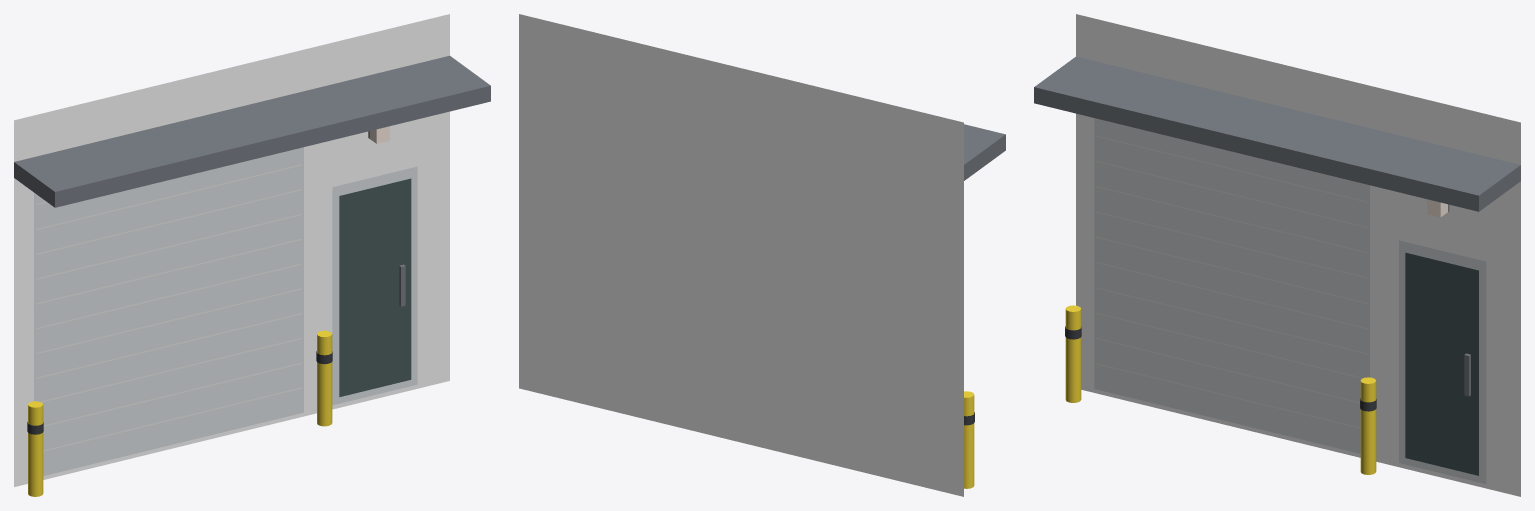
File: entrance_close.fbx
The picture shows the model from 3 angles, left to right: view 1: azimuth 30°, elevation 25°; view 2: azimuth 150°, elevation 25°; view 3: azimuth 330°, elevation 25°; orthographic projection. The views are drawn at different scales.
Visible parts, largest first — view 1: a2004/700/entrance_close; view 2: a2004/700/entrance_close; view 3: a2004/700/entrance_close.
Part boxes in pixels (<box>): a2004/700/entrance_close: <box>14,14,490,496</box>; a2004/700/entrance_close: <box>519,14,1005,496</box>; a2004/700/entrance_close: <box>1034,14,1520,496</box>.
Size of the model in its own units: 4.6 by 3.7 by 0.75.
